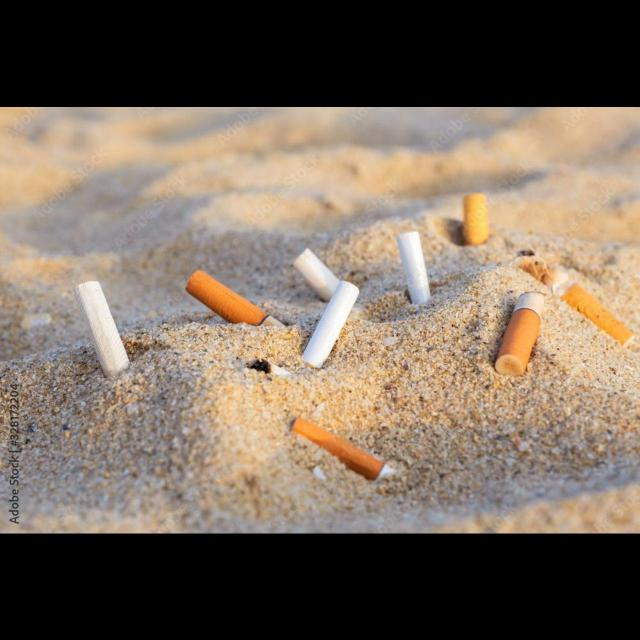cigarette: (291, 417, 397, 480), (185, 270, 286, 327), (553, 280, 635, 347), (74, 281, 129, 380), (302, 281, 360, 368), (494, 291, 545, 376), (396, 231, 431, 304), (294, 248, 340, 302), (464, 193, 489, 245), (244, 357, 294, 378)
